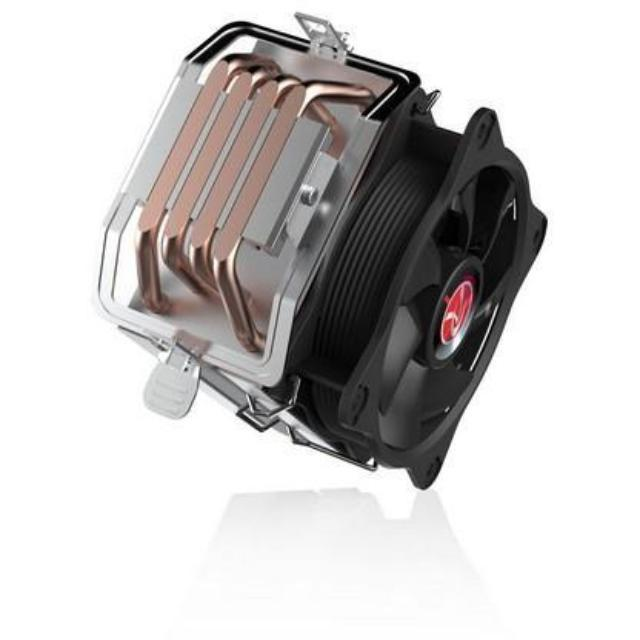CPU_Fan: (97, 12, 548, 494)
